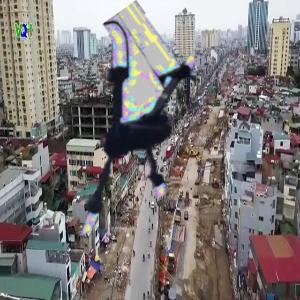drone: (22, 33, 230, 241)
